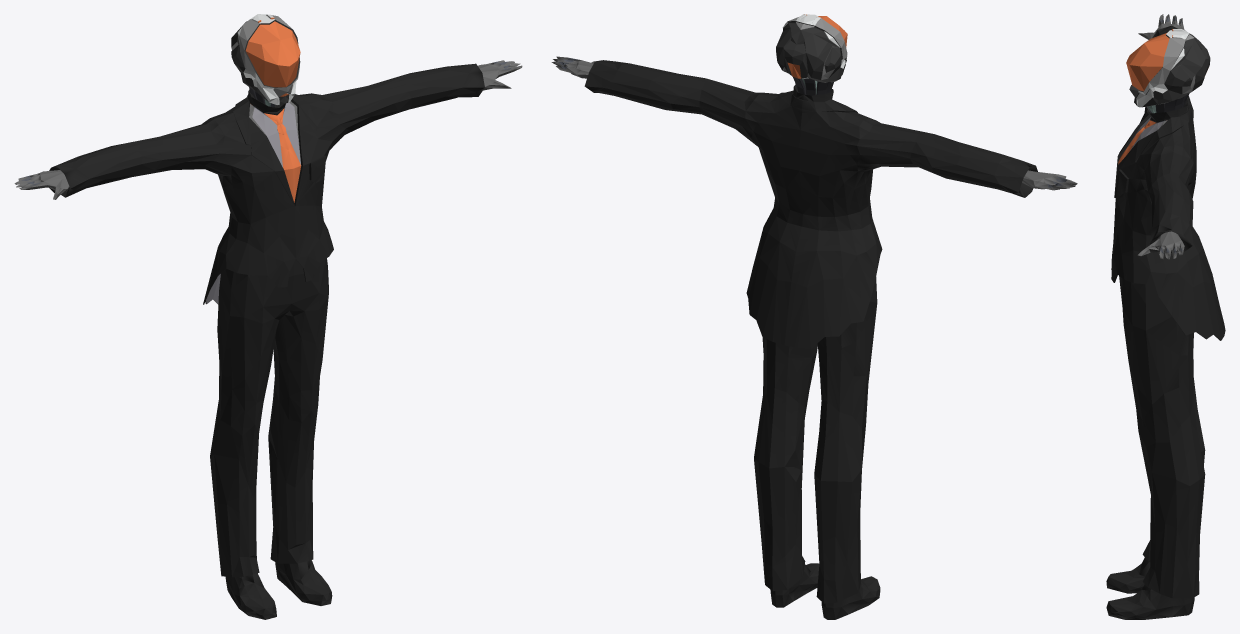
3 views of the same model, side by side, from view 1: azimuth 30°, elevation 25°; view 2: azimuth 150°, elevation 25°; view 3: azimuth 270°, elevation 25° (orthographic). The views are drawn at different scales.
Parts seen in each view (by area): view 1: Body, 新头.001; view 2: Body, 新头.001; view 3: Body, 新头.001.
Part boxes in pixels (x1,y1,x2,y2): Body: (14,60,522,619); 新头.001: (231,14,300,104); Body: (551,56,1077,619); 新头.001: (776,14,847,82); Body: (1106,14,1225,619); 新头.001: (1126,29,1210,107).
Size of the model in its own units: 160 by 172 by 32.75.
